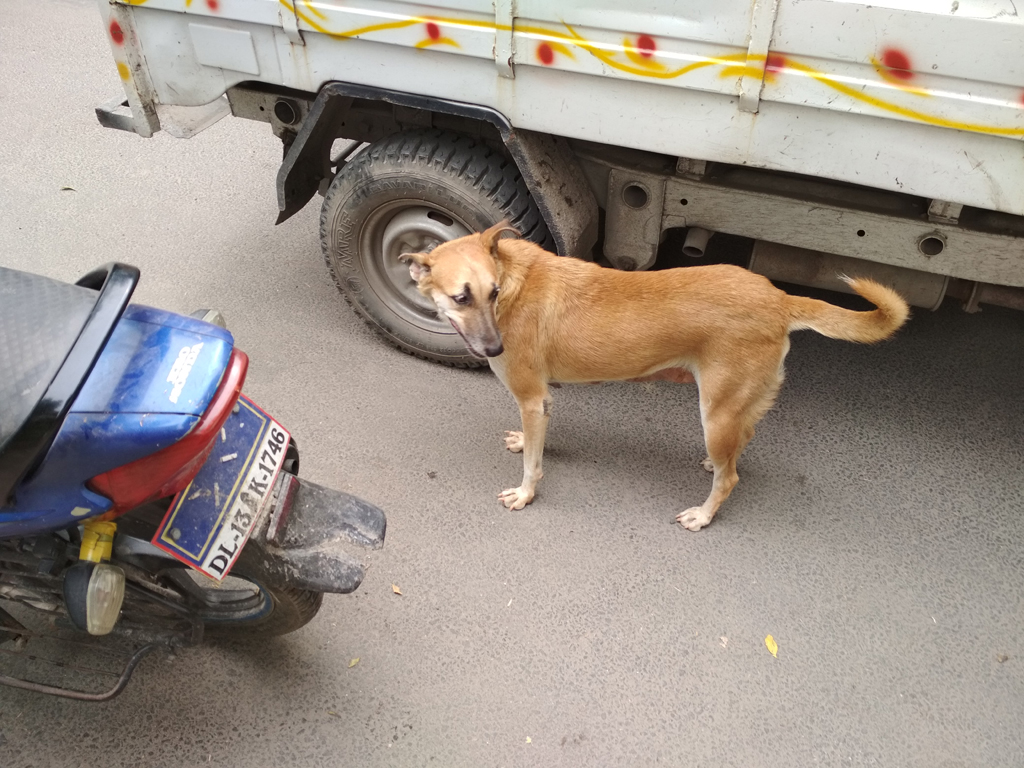dog: (398, 220, 912, 532)
